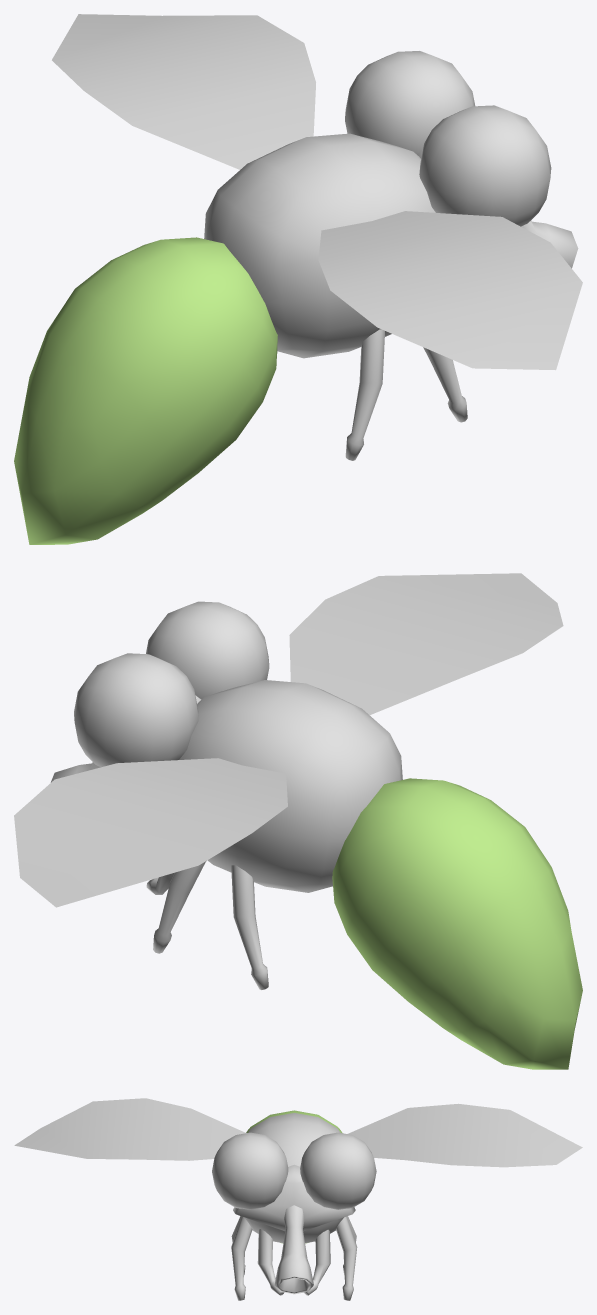
Rendered from Fly_NPC_Model.fbx.
The picture shows the model from 3 angles, top to bottom: view 1: azimuth 30°, elevation 25°; view 2: azimuth 150°, elevation 25°; view 3: azimuth 270°, elevation 25°; orthographic projection. The views are drawn at different scales.
Visible parts, largest first — view 1: Cube.060, Plane, Plane.004, Cube.007, Cube.005, Cube.006, Cylinder.004, Cylinder.003, Cylinder.002; view 2: Cube.060, Plane.004, Cube.007, Plane, Cube.006, Cube.005, Cylinder.001, Cylinder.006; view 3: Plane.004, Plane, Cube.006, Cube.005, Cube.007, Cube.002, Cylinder.002, Cylinder.006, Cylinder.003, Cylinder.005, Cylinder.008, Cube.060.
Boxes of the visible parts, box(x1,y1,x2,y2) form: Cube.060: box(14, 237, 277, 544); Plane: box(318, 211, 582, 370); Plane.004: box(52, 14, 315, 169); Cube.007: box(204, 133, 435, 358); Cube.005: box(419, 105, 551, 226); Cube.006: box(345, 51, 475, 154); Cylinder.004: box(345, 329, 384, 460); Cylinder.003: box(423, 347, 467, 422); Cylinder.002: box(521, 220, 578, 268); Cube.060: box(332, 778, 582, 1069); Plane.004: box(14, 758, 287, 907); Cube.007: box(179, 680, 402, 892); Plane: box(289, 573, 563, 715); Cube.006: box(74, 653, 198, 767); Cube.005: box(146, 601, 269, 699); Cylinder.001: box(231, 865, 268, 989); Cylinder.006: box(153, 861, 205, 953); Plane.004: box(348, 1103, 582, 1167); Plane: box(14, 1098, 246, 1160); Cube.006: box(300, 1132, 376, 1209); Cube.005: box(212, 1132, 288, 1209); Cube.007: box(244, 1113, 343, 1243); Cube.002: box(233, 1164, 355, 1231); Cylinder.002: box(274, 1205, 313, 1294); Cylinder.006: box(336, 1216, 357, 1300); Cylinder.003: box(231, 1216, 252, 1300); Cylinder.005: box(257, 1229, 284, 1295); Cylinder.008: box(304, 1229, 330, 1295); Cube.060: box(246, 1110, 342, 1243).
Size of the model in its own units: 157 by 100 by 240.
